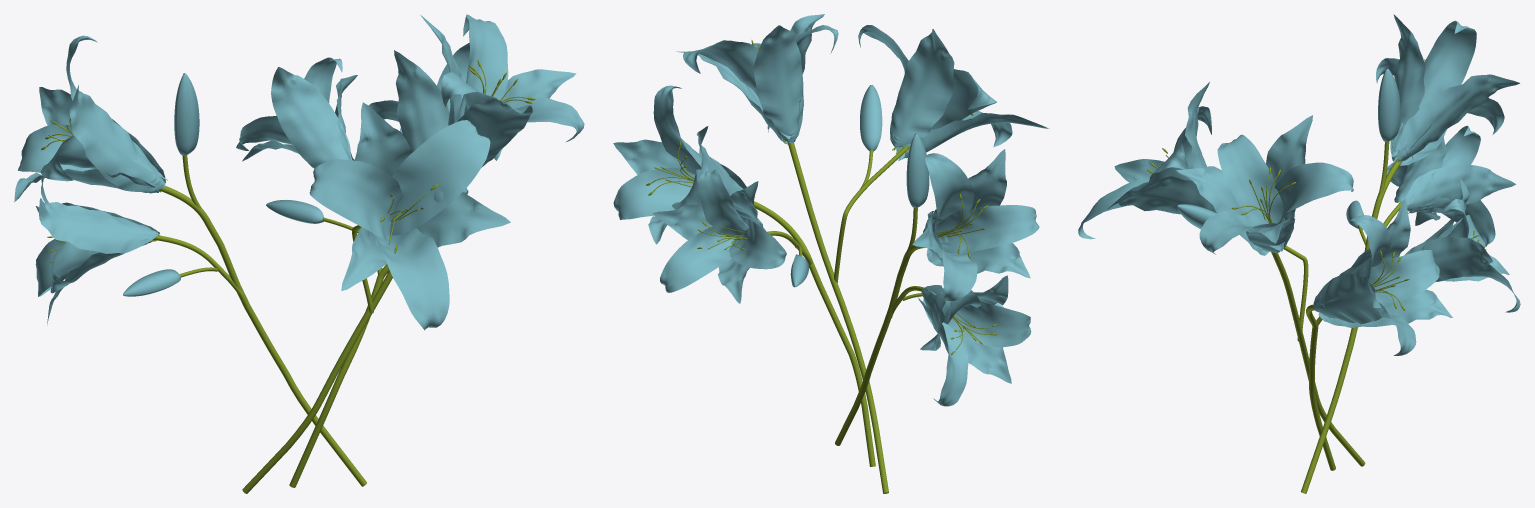
The model's file is lily.fbx.
3 renders of one model, left to right at view 1: azimuth 30°, elevation 25°; view 2: azimuth 150°, elevation 25°; view 3: azimuth 270°, elevation 25°, orthographic. The views are drawn at different scales.
Visible parts, largest first — view 1: Arc007; view 2: Arc007; view 3: Arc007.
Boxes of the visible parts, bbox=[...] form: Arc007: bbox=[14, 14, 584, 493]; Arc007: bbox=[613, 14, 1049, 493]; Arc007: bbox=[1078, 14, 1520, 493].
Size of the model in its own units: 9.73 by 8.77 by 8.47.
